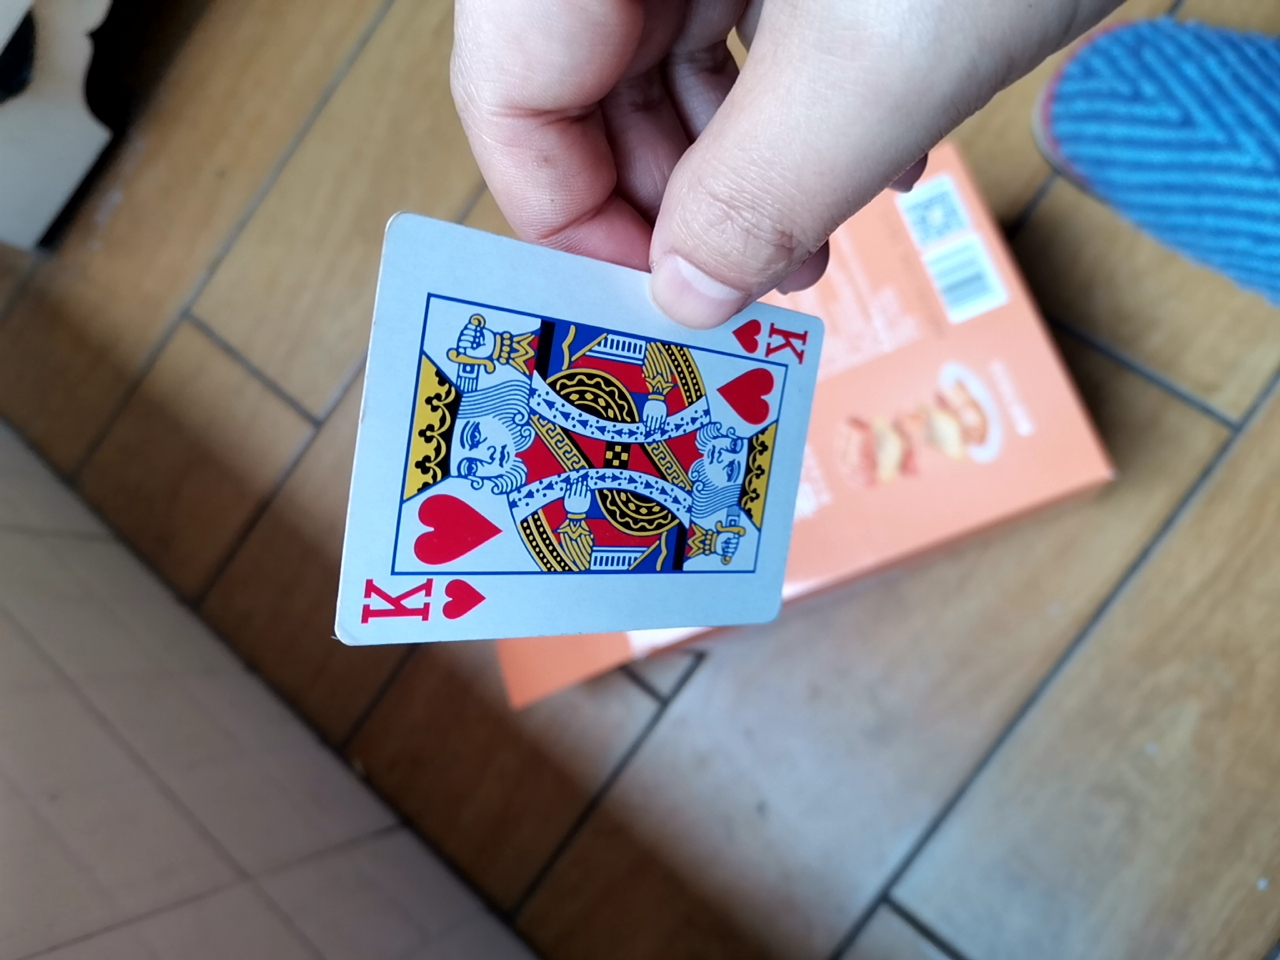hx k: (327, 212, 835, 681)
